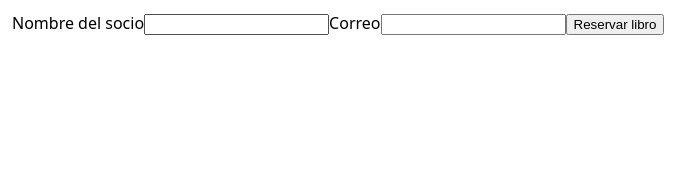
Test: FormularioReserva › si falta el nombre, no llama a onReservar y avisa
The image size is (681, 172).
Step 1. Type " jose@ejemplo.com " into the field labelled "Correo" → [473, 24], box [380,14,566,35]
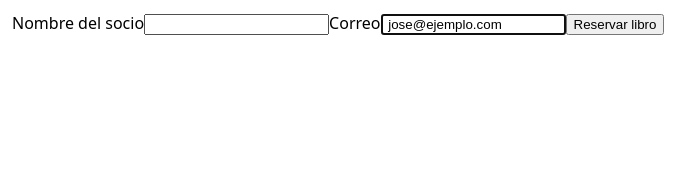
Step 2. Click the button "Reservar libro" → [615, 24], box [566,14,664,35]
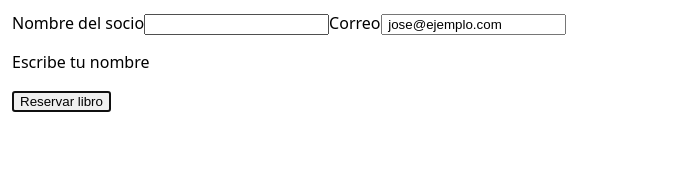
Check: the text "Escribe tu nombre" is shown, box [12,51,150,73]
